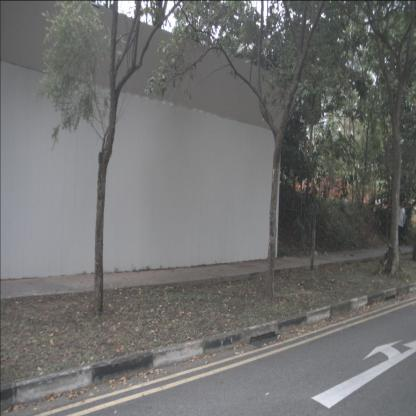human-pedestrian-adult: (394, 199, 406, 252)
